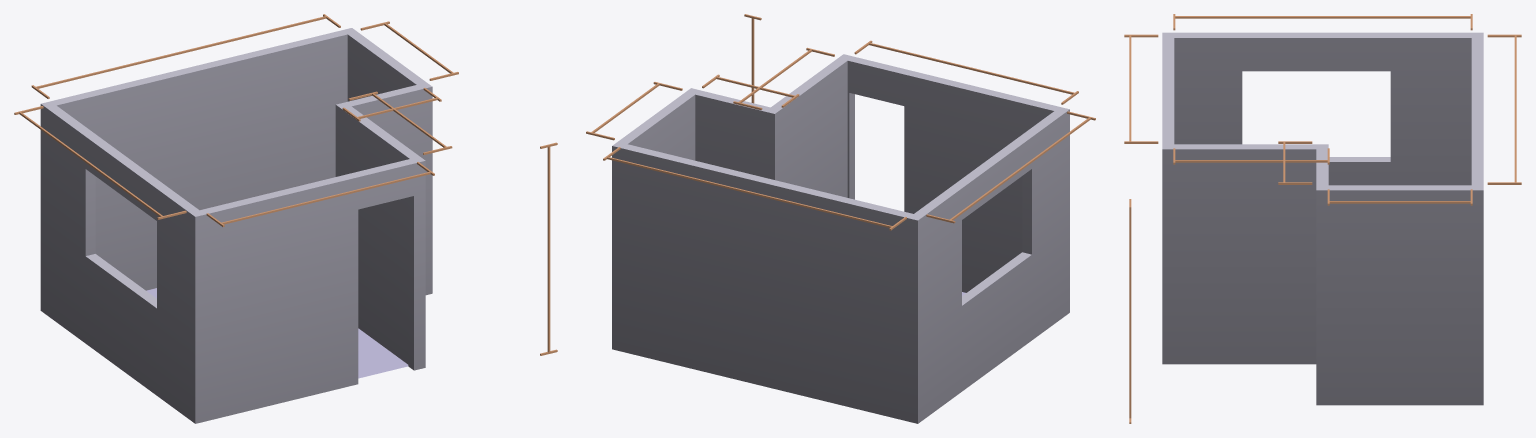
File: room-bedroom2.glb
3 renders of one model, left to right at view 1: azimuth 30°, elevation 25°; view 2: azimuth 150°, elevation 25°; view 3: azimuth 270°, elevation 25°, orthographic. The views are drawn at different scales.
Parts seen in each view (by area): view 1: bedroom2; view 2: bedroom2; view 3: bedroom2.
Boxes of the visible parts, x1,y1,x2,y2 form: bedroom2: [14, 14, 557, 423]; bedroom2: [586, 14, 1095, 423]; bedroom2: [1124, 14, 1521, 423].
Bounding box in the file's own units: 4.53 × 2.41 × 3.97.
